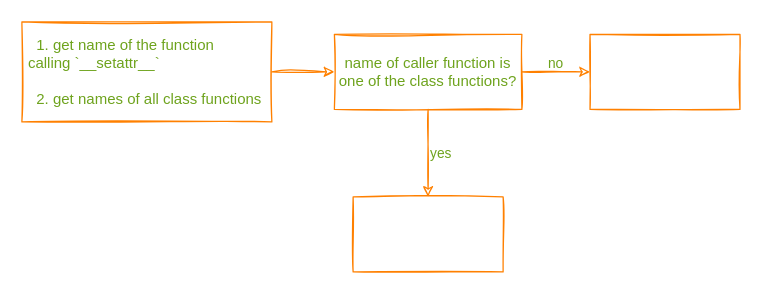
Some shapes in this 763 by 294 pixel diagram are drawn without their labels. Here are the shapes that lost their labels. From the top down, the box of each, then its label:
(589, 33, 740, 109): raise Error
(352, 196, 503, 272): set attribute
